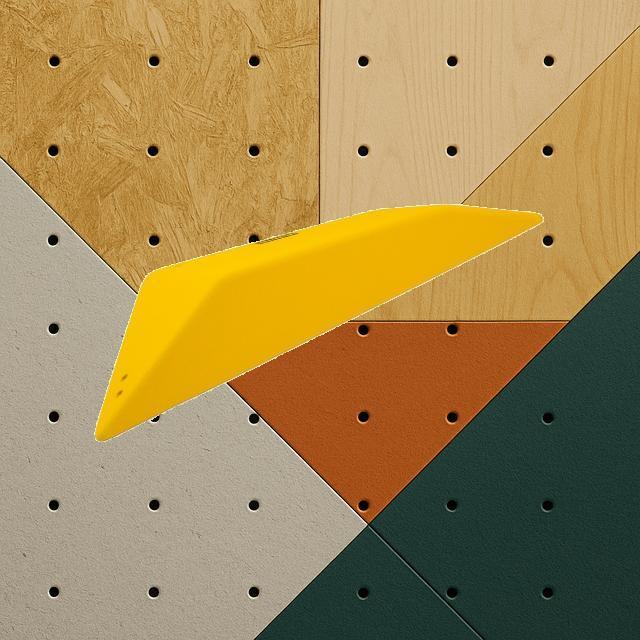Volume: (93, 202, 544, 442)
